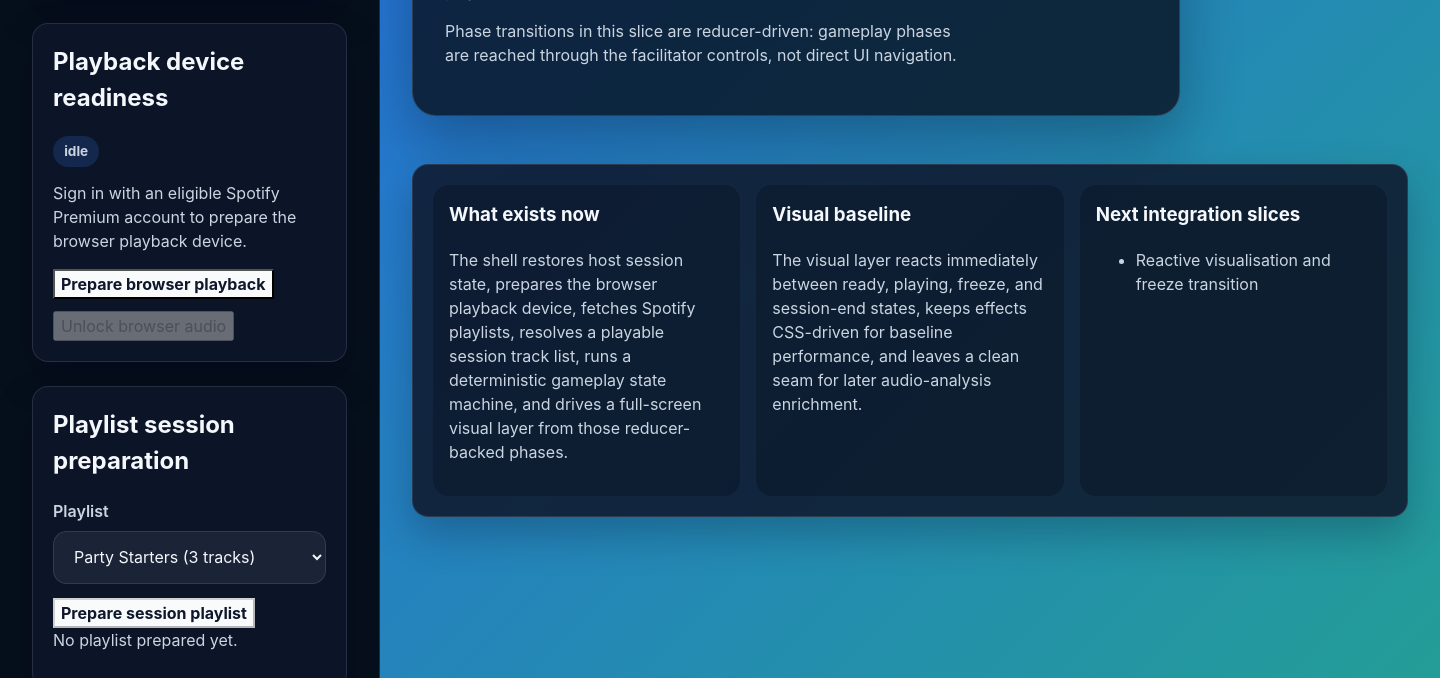
Test: App gameplay control slice › surfaces analysis-backed visual state with a stable fallback-friendly interface
The width and height of the screenshot is (1440, 678).
(page scrolled)
Click the button "Prepare browser playback": (163, 284) [53, 269, 274, 299]
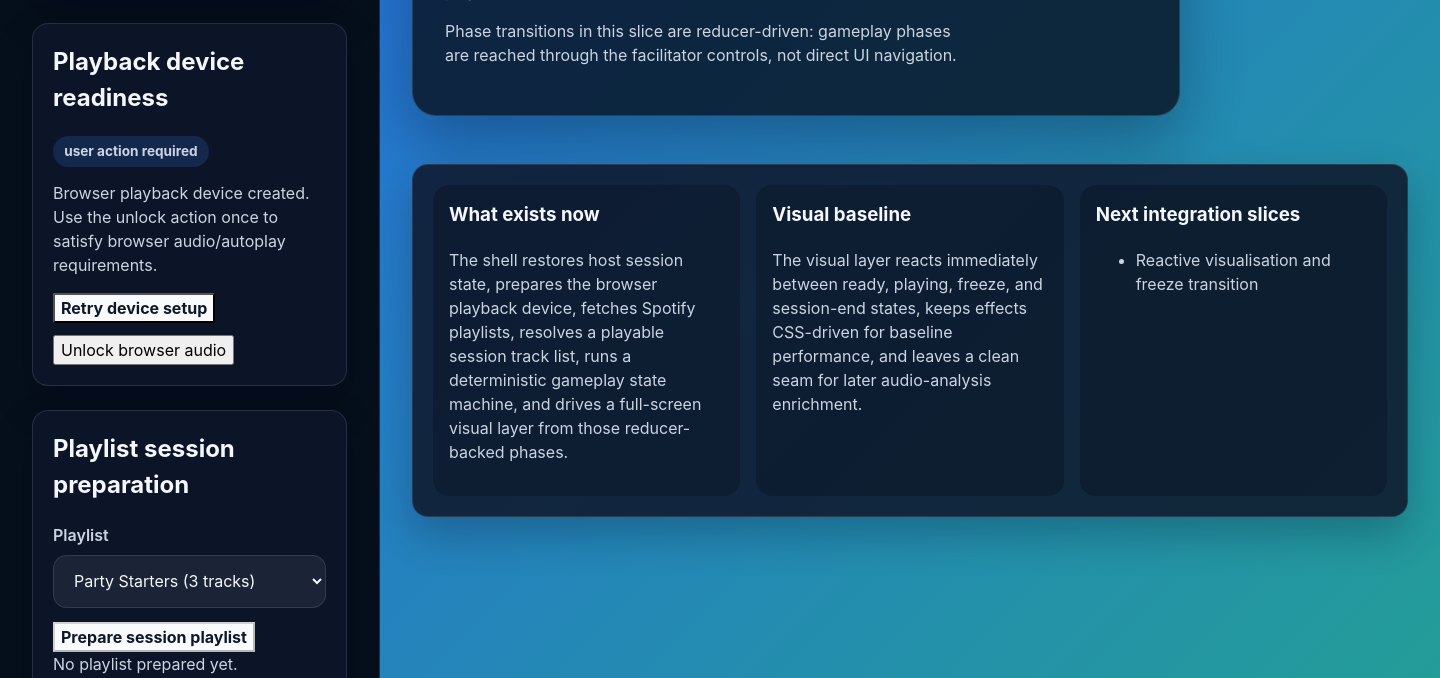
Now the button "Unlock browser audio" is enabled
Click the button "Unlock browser audio": (144, 350) [53, 335, 234, 365]
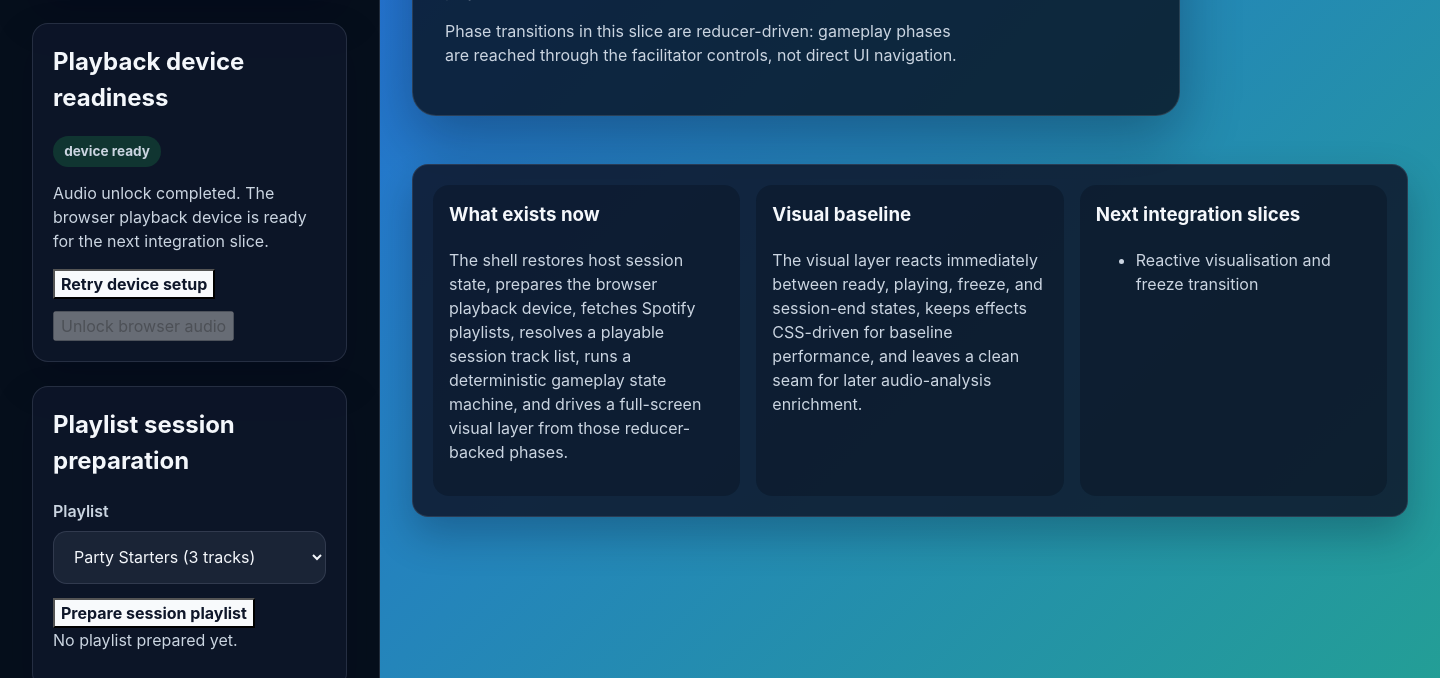
Click the button "Prepare session playlist": (154, 613) [53, 598, 255, 628]
(page scrolled)
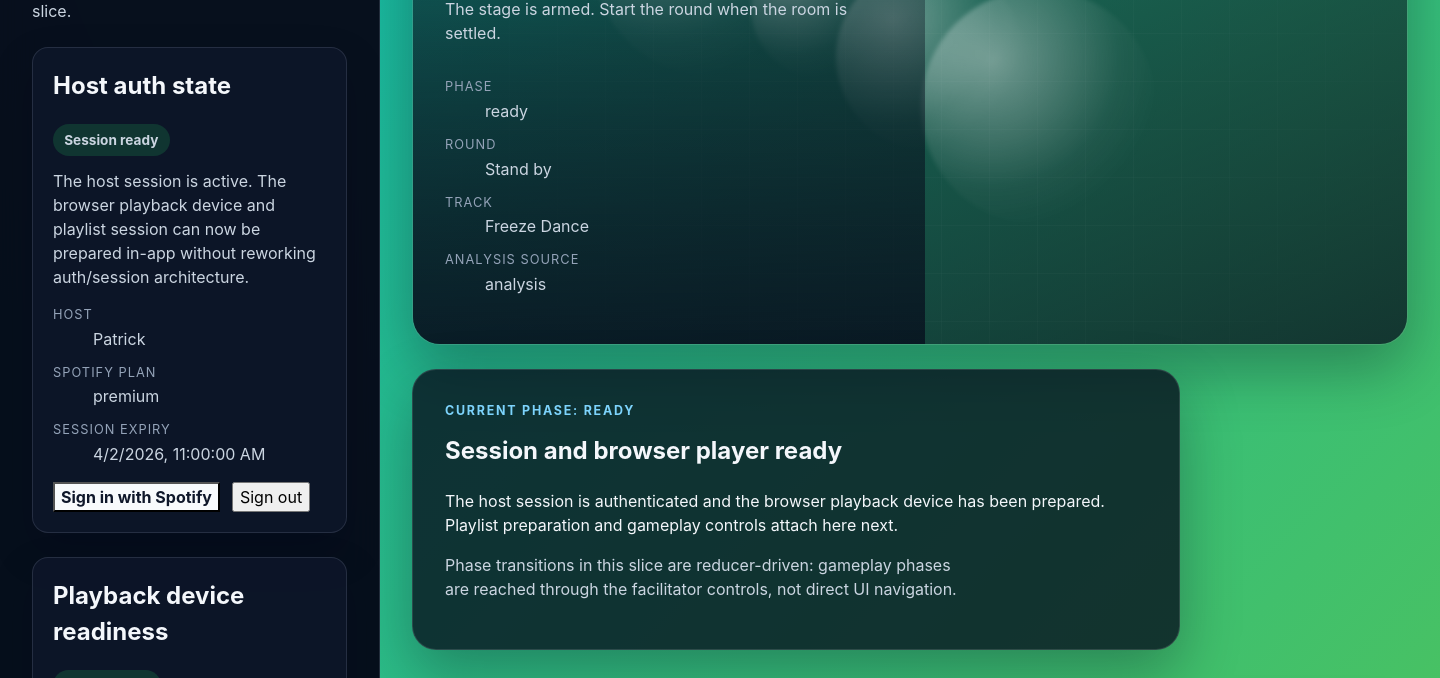
Now the text "analysis" is shown, box [485, 274, 546, 294]
